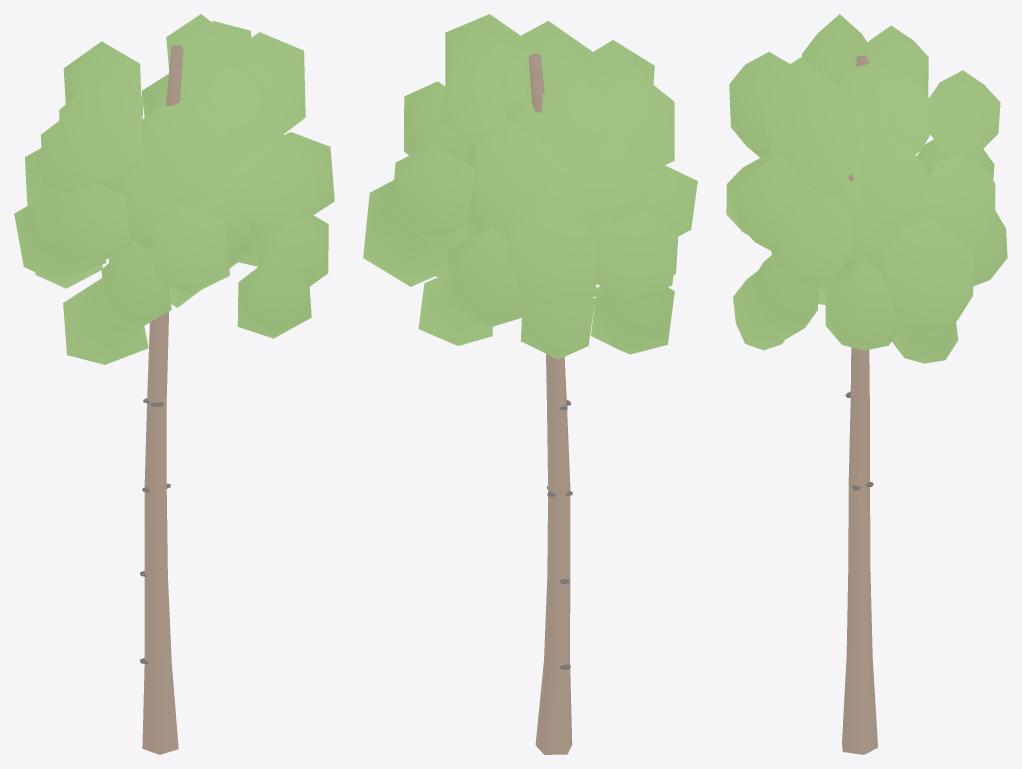
File: Blender_Aspen_2_Far.glb
3 renders of one model, left to right at view 1: azimuth 30°, elevation 25°; view 2: azimuth 150°, elevation 25°; view 3: azimuth 270°, elevation 25°, orthographic.
Visible parts, largest first — view 1: Blender_Aspen_2_Far; view 2: Blender_Aspen_2_Far; view 3: Blender_Aspen_2_Far.
Part boxes in pixels (<box>): Blender_Aspen_2_Far: <box>14,14,334,754</box>; Blender_Aspen_2_Far: <box>363,14,697,754</box>; Blender_Aspen_2_Far: <box>726,14,1007,754</box>.
Size of the model in its own units: 5.14 by 12.48 by 4.46.
